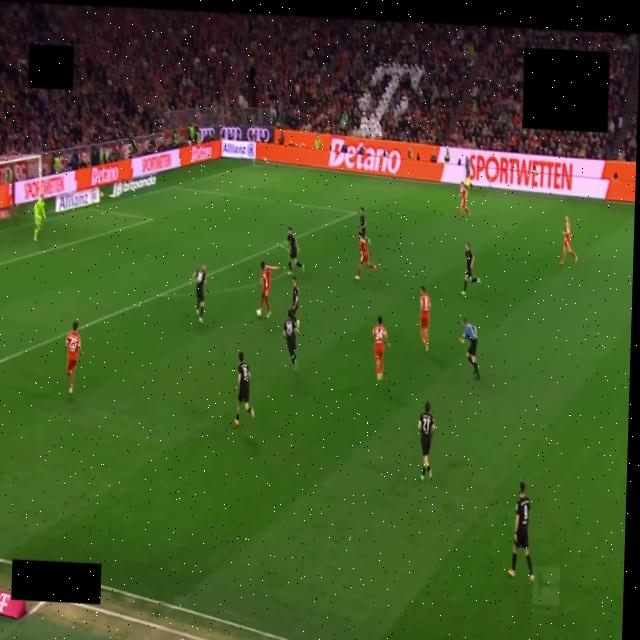ball: (256, 310, 261, 317)
player: (509, 483, 534, 583), (235, 352, 254, 426), (418, 403, 435, 481), (65, 322, 83, 394), (372, 316, 389, 381), (259, 262, 279, 317), (282, 310, 300, 371), (461, 242, 480, 295), (355, 235, 377, 280), (191, 263, 206, 323), (287, 228, 305, 274), (560, 216, 577, 264), (421, 286, 430, 351), (34, 196, 46, 241), (290, 278, 299, 327), (459, 183, 469, 219), (360, 207, 369, 242)
referee: (460, 318, 480, 379)
